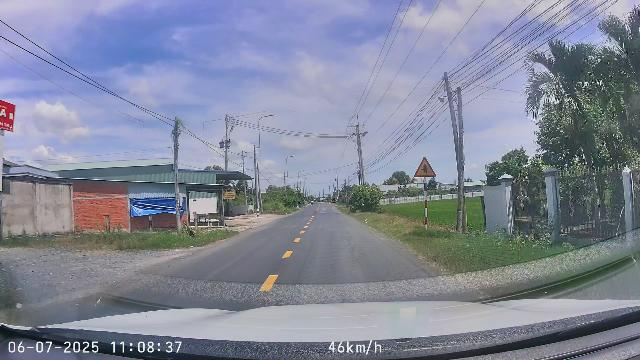207-giao-nhau-voi-duong-khong-uu-tien: (414, 157, 436, 177)
